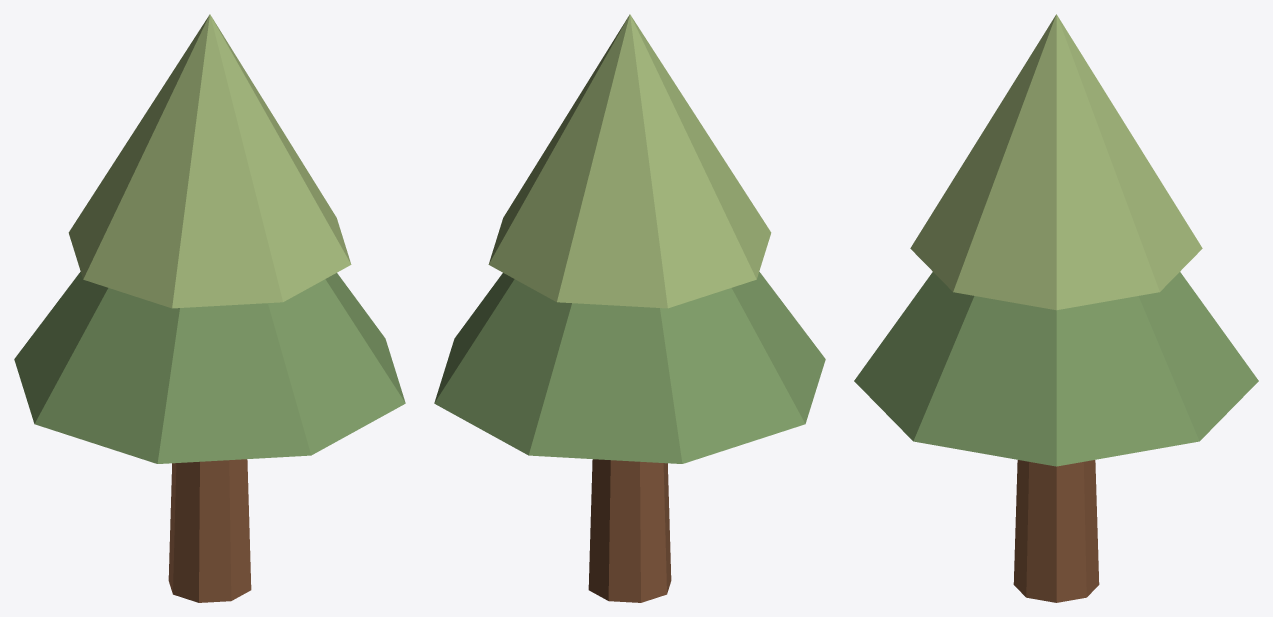
File: tree.glb
3 views of the same model, side by side, from view 1: azimuth 30°, elevation 25°; view 2: azimuth 150°, elevation 25°; view 3: azimuth 270°, elevation 25° (orthographic).
Parts seen in each view (by area): view 1: Part1, Part2, Part0; view 2: Part1, Part2, Part0; view 3: Part1, Part2, Part0.
Boxes of the visible parts, box(x1,y1,x2,y2) form: Part1: box(14, 272, 405, 463); Part2: box(68, 14, 351, 308); Part0: box(168, 459, 251, 602); Part1: box(434, 272, 825, 463); Part2: box(488, 14, 771, 308); Part0: box(588, 459, 671, 602); Part1: box(854, 272, 1258, 466); Part2: box(910, 14, 1202, 310); Part0: box(1013, 460, 1099, 602).
Bounding box in the file's own units: 1.8 × 2.8 × 1.8.
